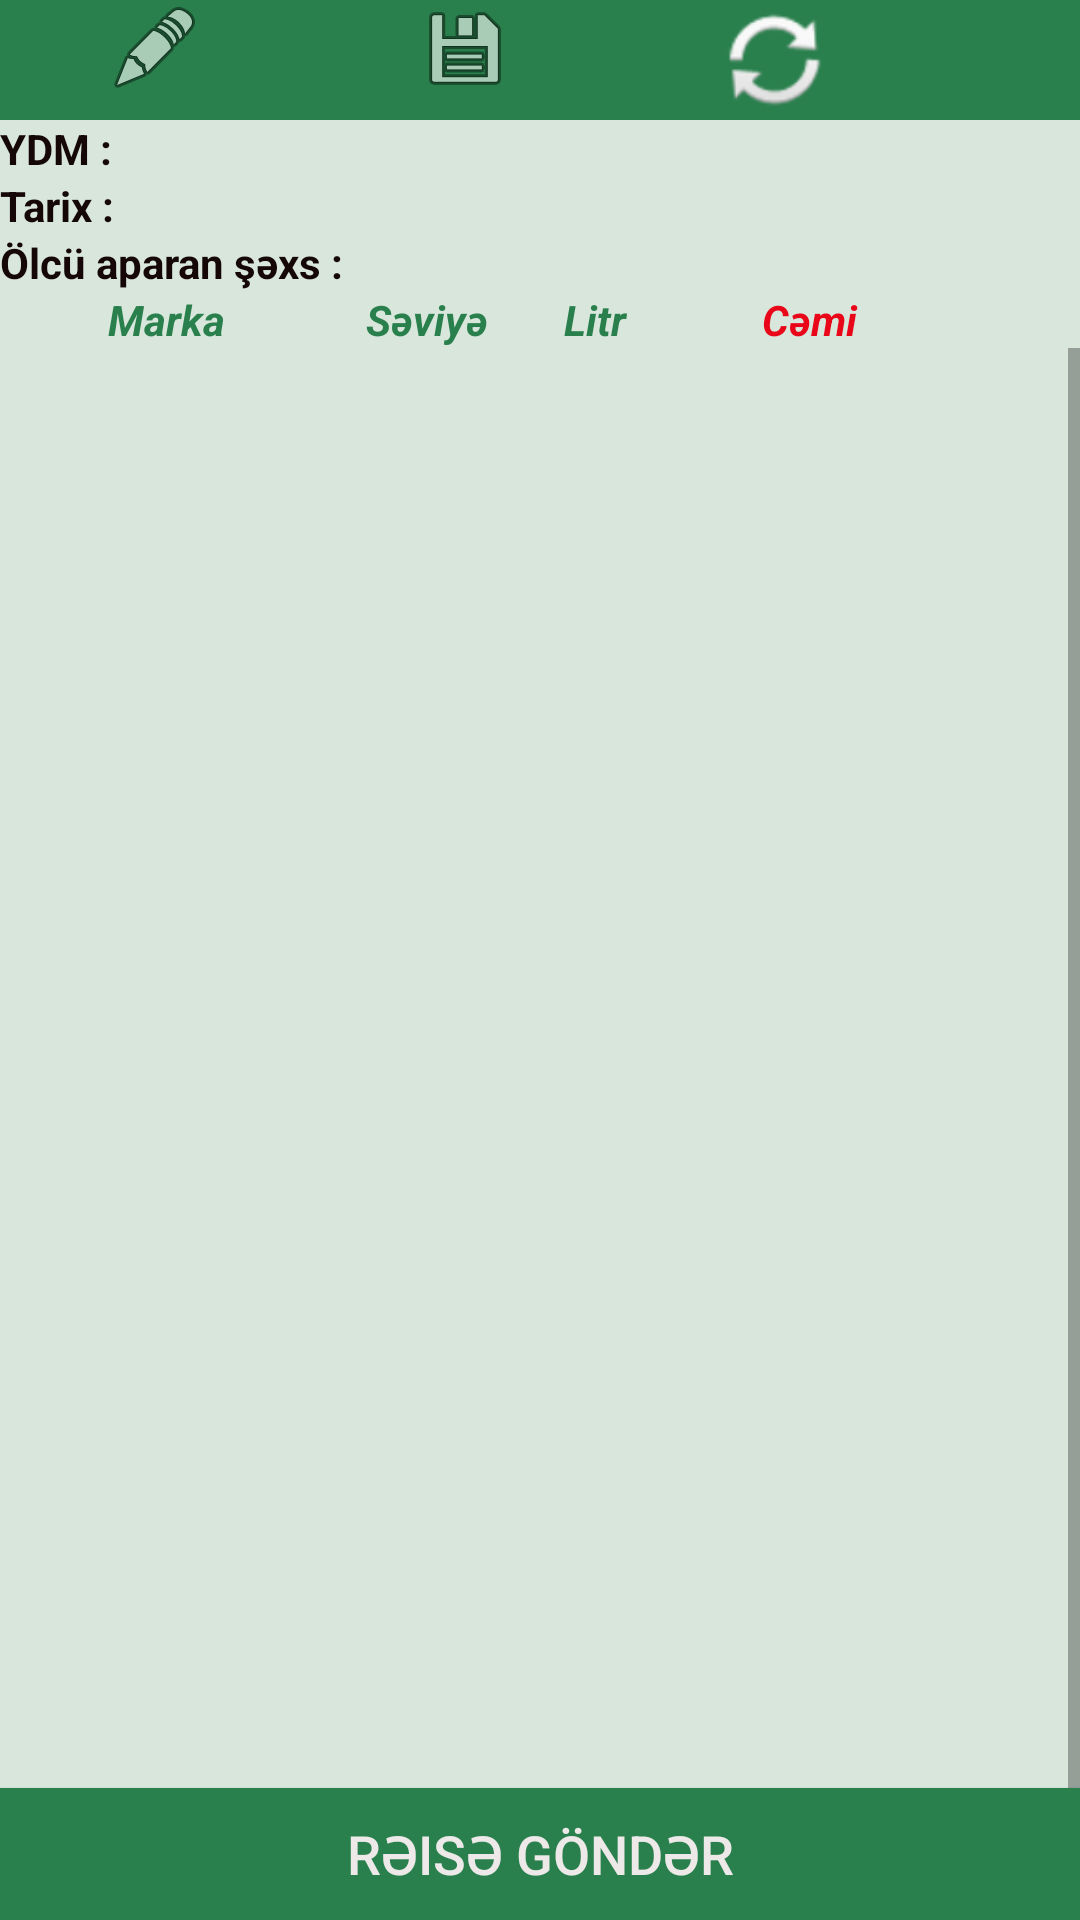

Icon click points for this 1080×1920 phone screenshot, format [x,y]:
edit: [154,47]
popup sync: [774,60]
save: [465,48]
